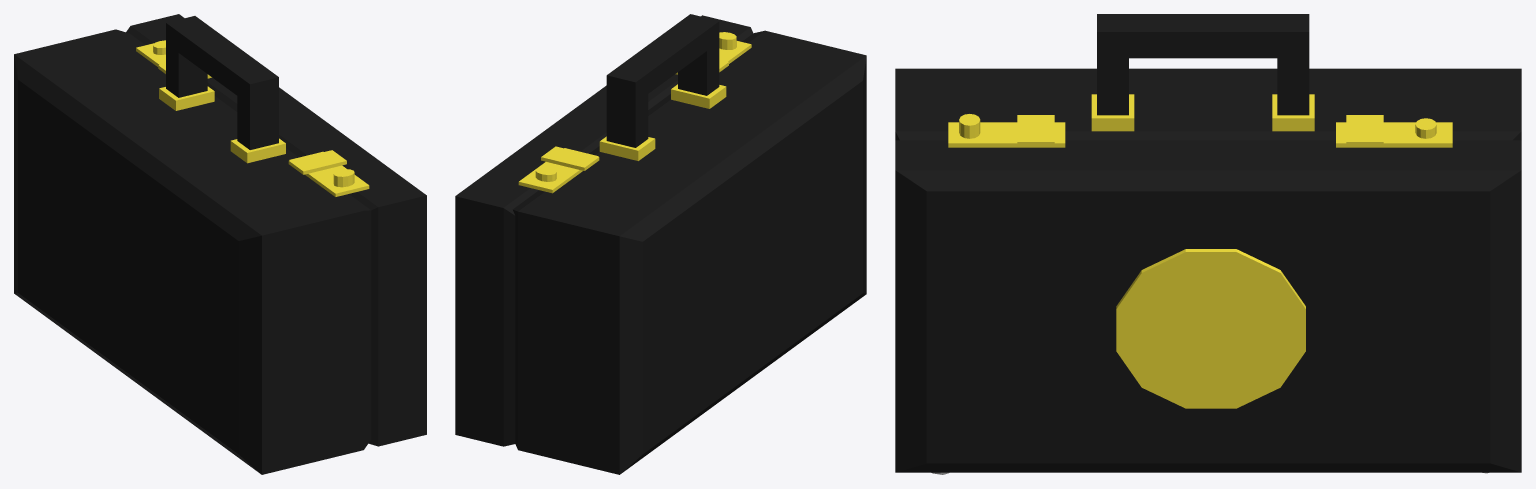
The model's file is executive-briefcase-charcoal.glb.
The picture shows the model from 3 angles, left to right: view 1: azimuth 30°, elevation 25°; view 2: azimuth 150°, elevation 25°; view 3: azimuth 270°, elevation 25°; orthographic projection. The views are drawn at different scales.
Visible parts, largest first — view 1: Executive Briefcase Charcoal; view 2: Executive Briefcase Charcoal; view 3: Executive Briefcase Charcoal.
Part boxes in pixels (x1,y1,x2,y2): Executive Briefcase Charcoal: [14, 14, 426, 474]; Executive Briefcase Charcoal: [455, 14, 866, 474]; Executive Briefcase Charcoal: [895, 14, 1521, 474].
Bounding box in the file's own units: 0.468 × 0.7667 × 1.06.
